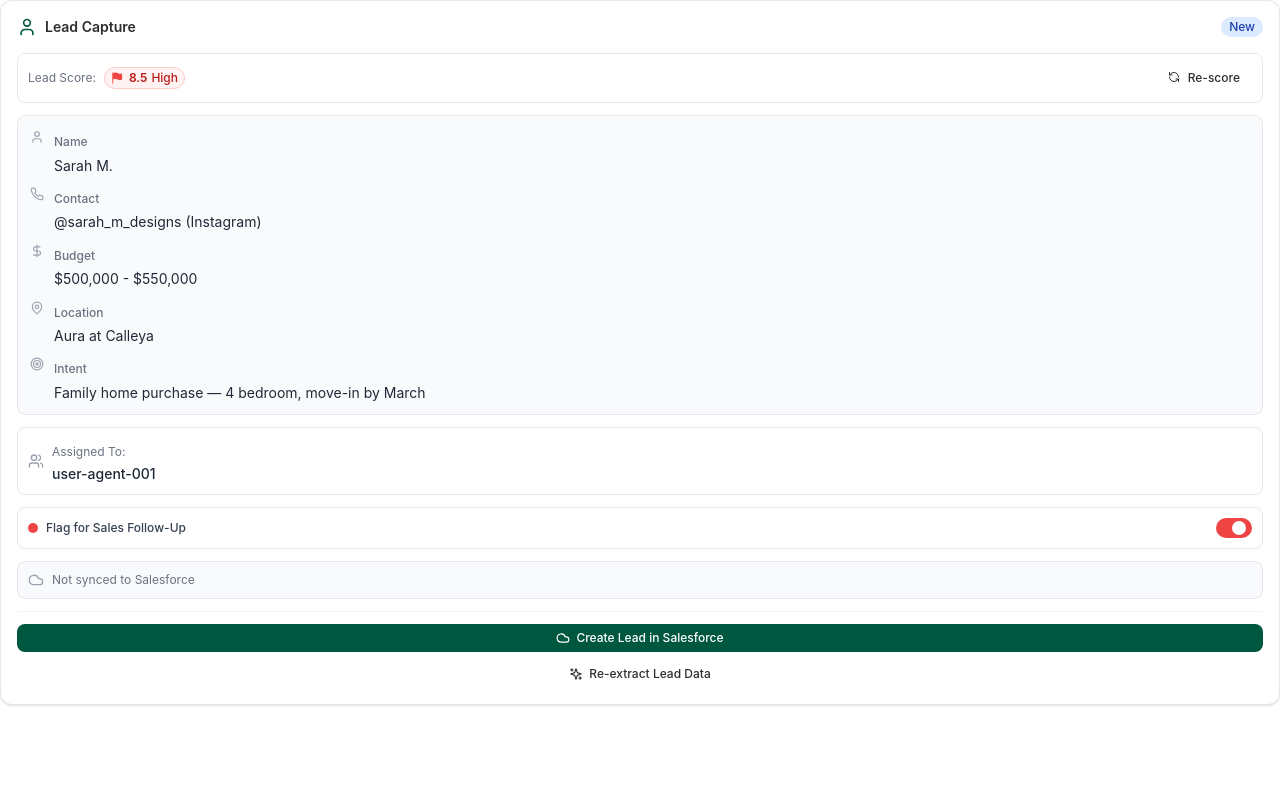
it: LeadCaptureSidebar › Salesforce sync › shows Retry Salesforce Sync button after sync failure
The image size is (1280, 800).
Click the button "Create Lead in Salesforce" at (640,638), box [17,624,1263,652]
(page scrolled)
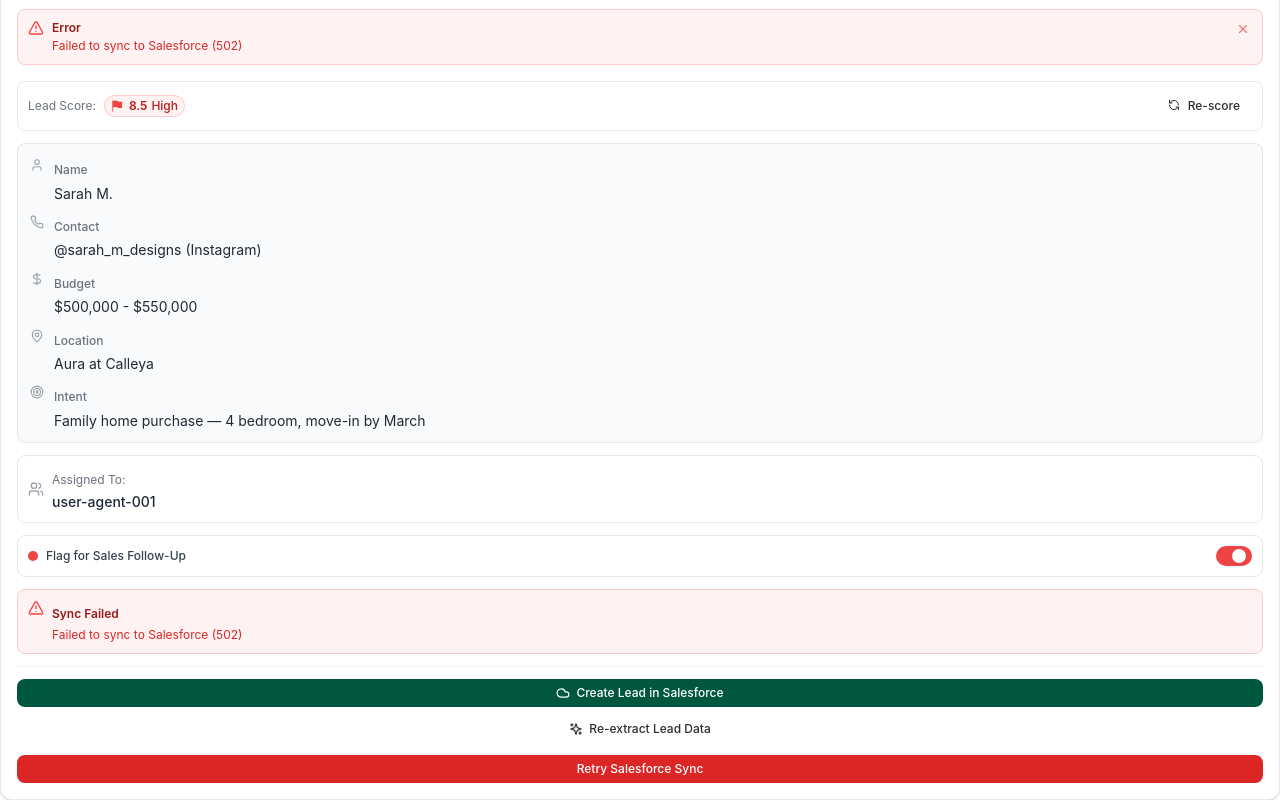
Expected: the button "Retry Salesforce Sync" is shown, [17,755,1263,783]
